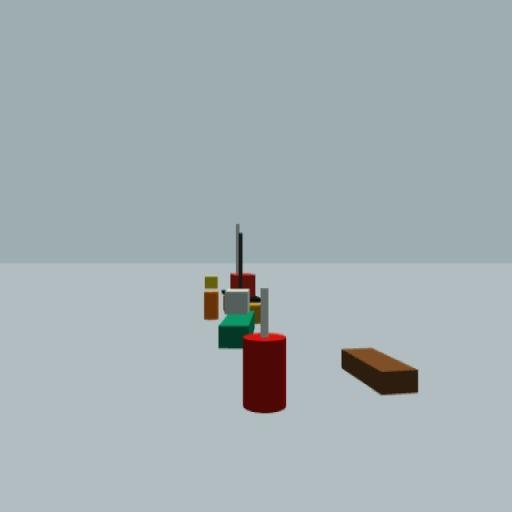buoy: (202, 275, 220, 320)
debris_container: (340, 345, 420, 400)
floating_obstacle: (243, 289, 287, 414)
